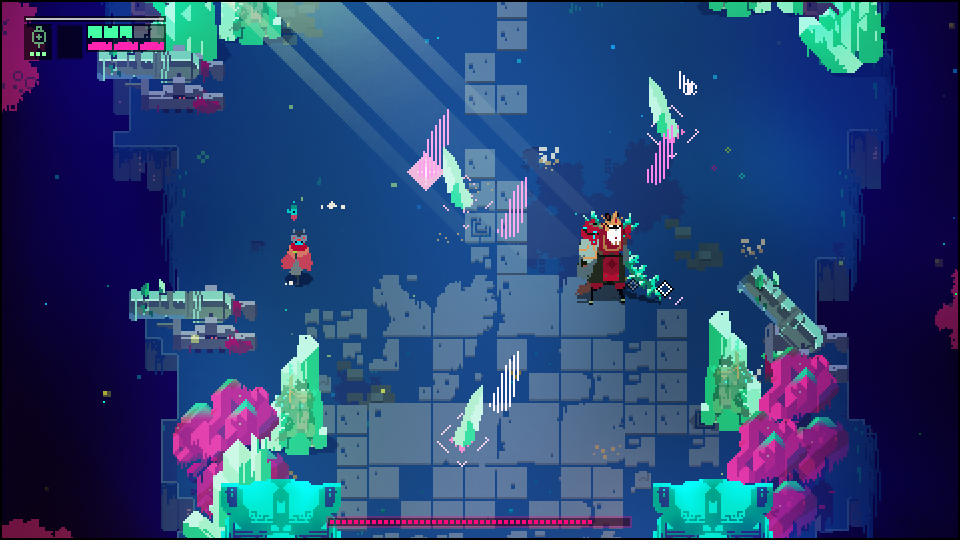hanged_crys: (414, 106, 451, 179), (487, 349, 525, 414), (642, 73, 678, 137), (453, 381, 488, 446), (636, 127, 672, 186), (439, 149, 473, 208)
hanged_man: (581, 209, 660, 301)
player: (280, 228, 313, 282)
